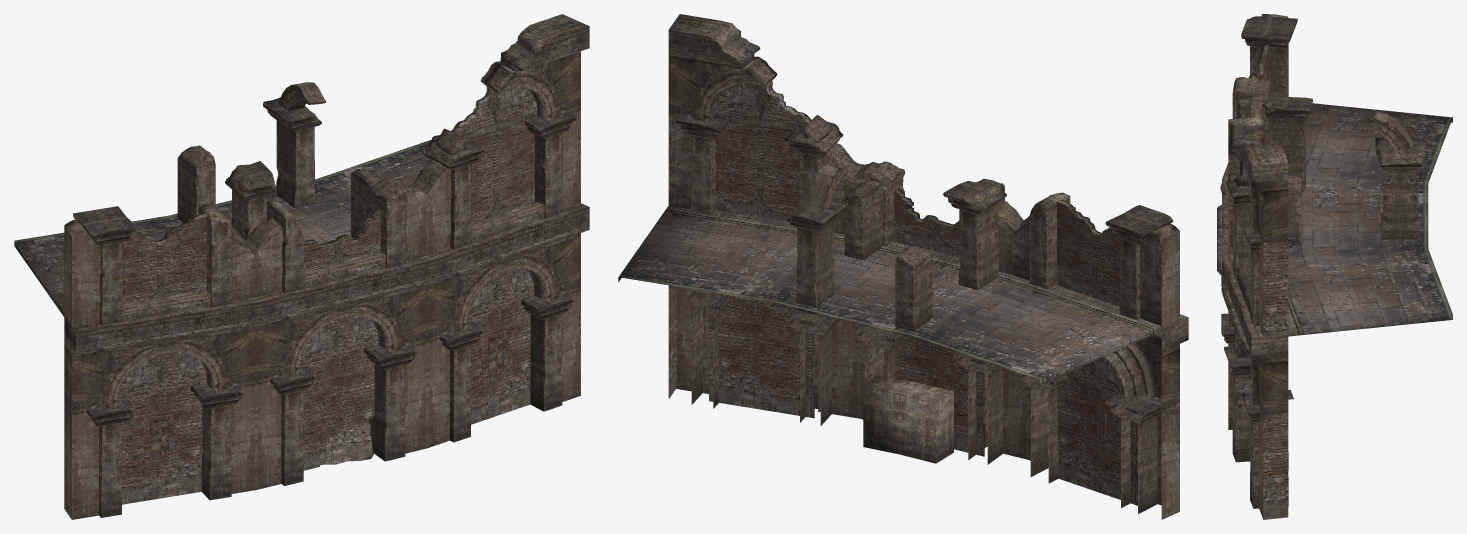
Rendered from Wall10.fbx.
The picture shows the model from 3 angles, left to right: view 1: azimuth 30°, elevation 25°; view 2: azimuth 150°, elevation 25°; view 3: azimuth 270°, elevation 25°; orthographic projection. The views are drawn at different scales.
Visible parts, largest first — view 1: LV_Campagna_Stadium_Wall_Out01_Crush01_SM_JJH; view 2: LV_Campagna_Stadium_Wall_Out01_Crush01_SM_JJH; view 3: LV_Campagna_Stadium_Wall_Out01_Crush01_SM_JJH.
Part boxes in pixels (<box>): LV_Campagna_Stadium_Wall_Out01_Crush01_SM_JJH: <box>14,14,589,519</box>; LV_Campagna_Stadium_Wall_Out01_Crush01_SM_JJH: <box>618,14,1188,519</box>; LV_Campagna_Stadium_Wall_Out01_Crush01_SM_JJH: <box>1217,14,1452,519</box>.
Bounding box in the file's own units: 9.71 × 6.86 × 4.07.
Materials: 3 (3 with a texture image).
